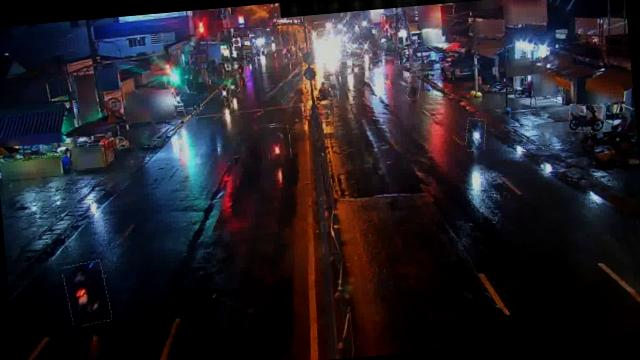Bike: (64, 261, 110, 326), (568, 103, 607, 134), (266, 126, 292, 160), (464, 118, 487, 152), (312, 80, 338, 103), (407, 74, 422, 100)
